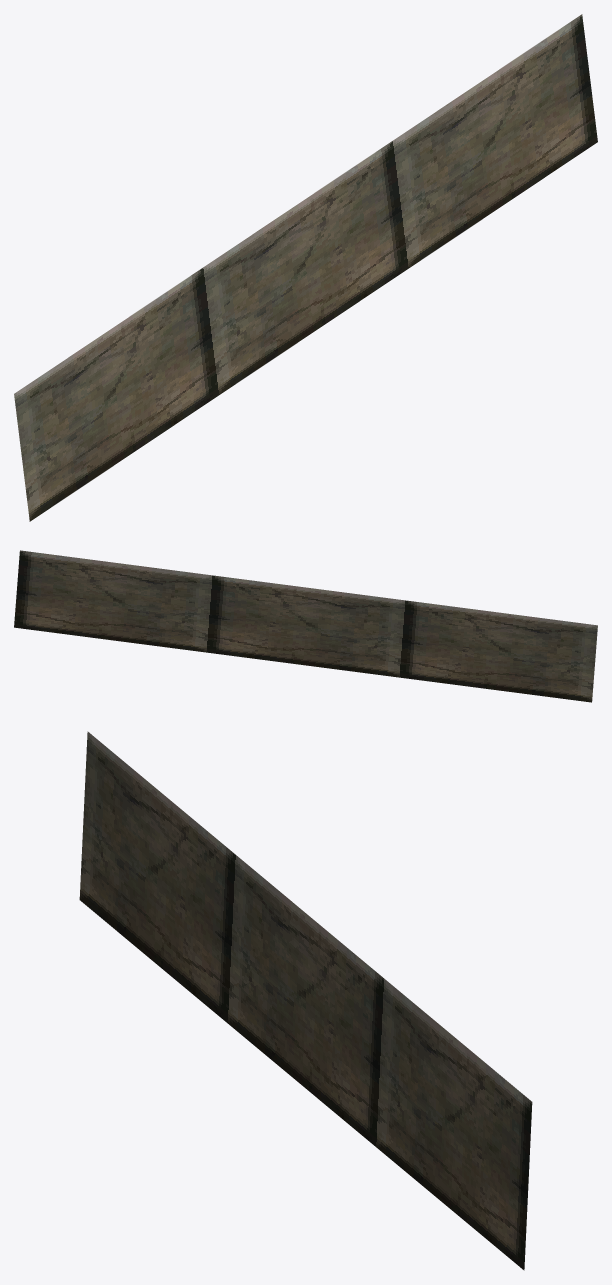
File: CH09_SMAUG_PLAYSURFACE_LAIR119.fbx
3 views of the same model, one above another, from view 1: azimuth 30°, elevation 25°; view 2: azimuth 150°, elevation 25°; view 3: azimuth 270°, elevation 25° (orthographic). The views are drawn at different scales.
Visible parts, largest first — view 1: CH09_SMAUG_PLAYSURFACE_LAIR119; view 2: CH09_SMAUG_PLAYSURFACE_LAIR119; view 3: CH09_SMAUG_PLAYSURFACE_LAIR119.
Part boxes in pixels (bbox=[...]): CH09_SMAUG_PLAYSURFACE_LAIR119: bbox=[14, 14, 597, 521]; CH09_SMAUG_PLAYSURFACE_LAIR119: bbox=[14, 550, 597, 702]; CH09_SMAUG_PLAYSURFACE_LAIR119: bbox=[79, 731, 532, 1270].
Bounding box in the file's own units: 37410 × 9265 × 15444.
1 material, 1 textured.
